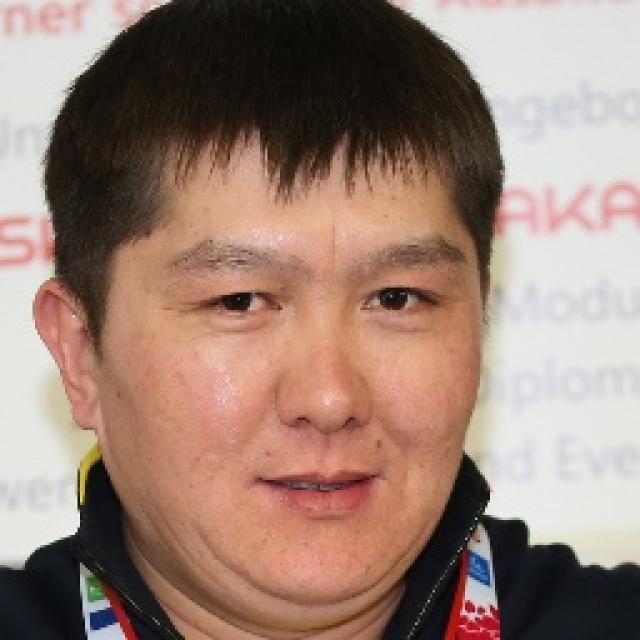earlobe: (66, 378, 104, 433)
eye: (190, 282, 288, 325), (359, 282, 438, 317)
nose: (270, 414, 372, 460)
wholeear: (32, 278, 104, 434)
